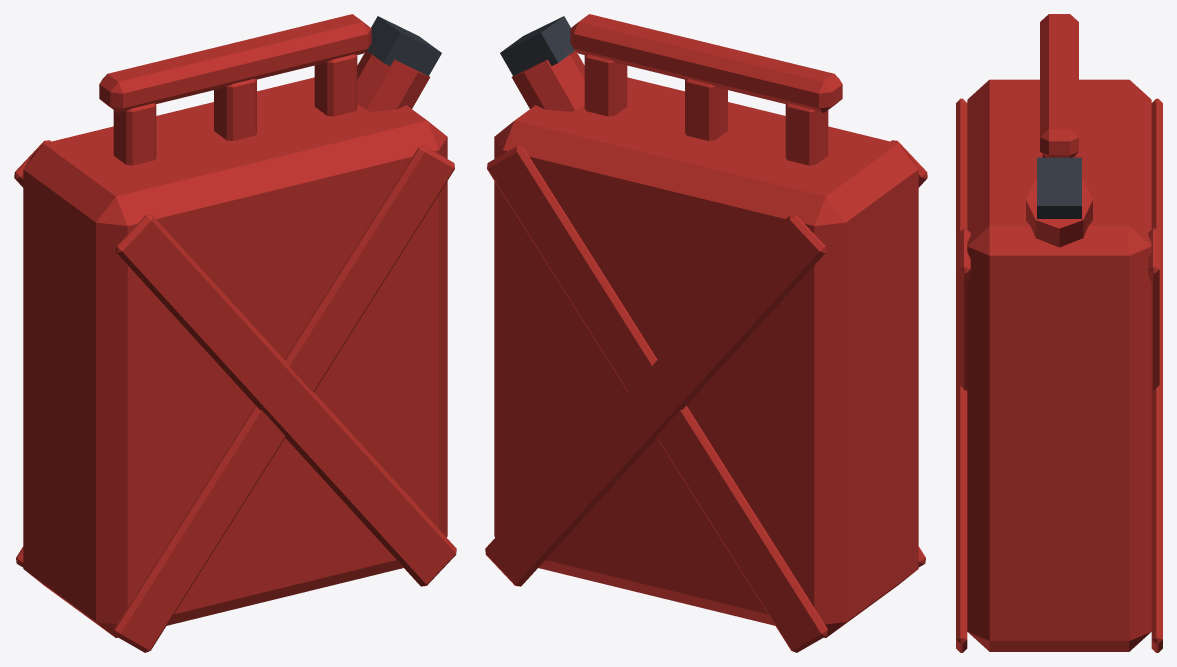
Rendered from Jerrycan.fbx.
The picture shows the model from 3 angles, left to right: view 1: azimuth 30°, elevation 25°; view 2: azimuth 150°, elevation 25°; view 3: azimuth 270°, elevation 25°; orthographic projection. The views are drawn at different scales.
Visible parts, largest first — view 1: Jerrycan; view 2: Jerrycan; view 3: Jerrycan.
Part boxes in pixels (x1,y1,x2,y2): Jerrycan: [14, 14, 456, 652]; Jerrycan: [485, 14, 927, 652]; Jerrycan: [956, 14, 1162, 652].
Size of the model in its own units: 0.3691 by 0.5084 by 0.185.
Materials: 1 (1 with a texture image).
